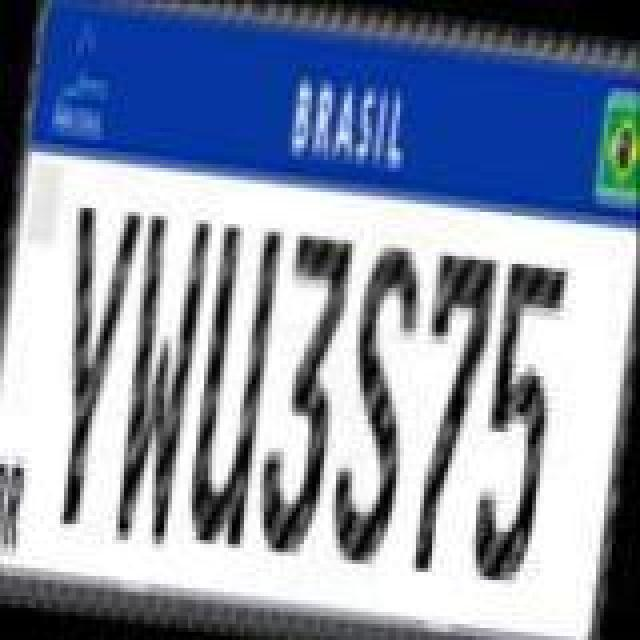3: (250, 226, 354, 562)
5: (466, 256, 570, 592)
7: (394, 244, 498, 576)
S: (326, 236, 430, 568)
U: (180, 218, 280, 554)
W: (104, 208, 212, 552)
Y: (42, 200, 146, 536)
